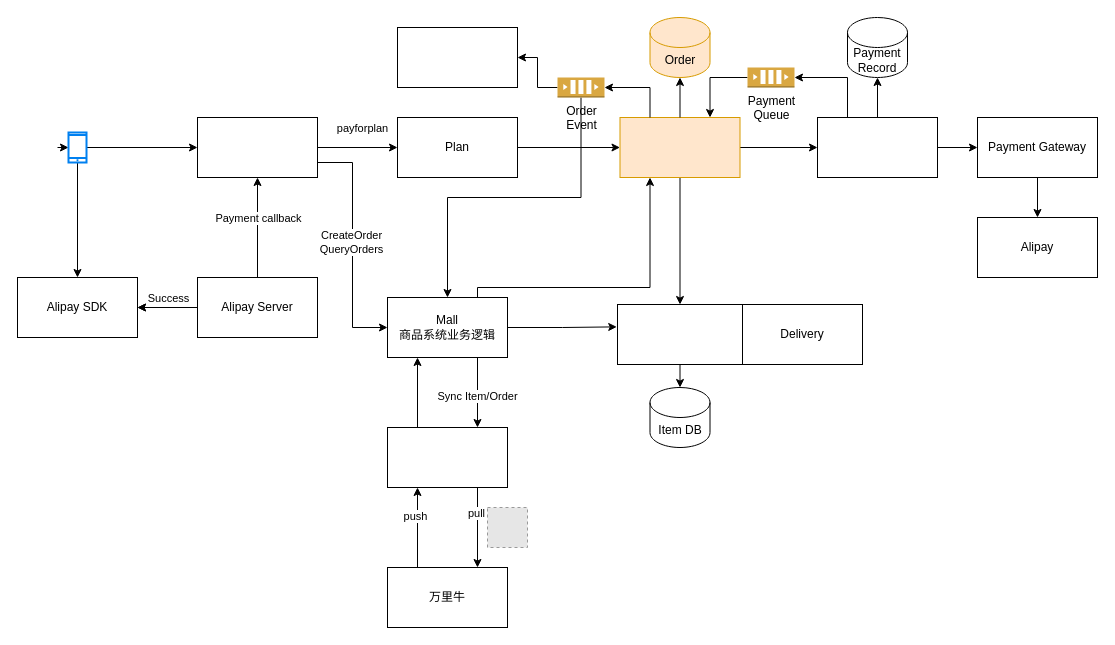
Image size: 1115x645. Some labels were removed from this diagram. Grey dashed boxes stand in for pictures. Each missing label, with the centre of its shape:
"Intergation gateway" belongs at (x=447, y=457).
"Item Service + Inventory" belongs at (x=679, y=334).
"Order Service" belongs at (x=679, y=147).
"Ottergate" belongs at (x=257, y=147).
"Payment Service" belongs at (x=877, y=147).
"Subscription" belongs at (x=457, y=57).
